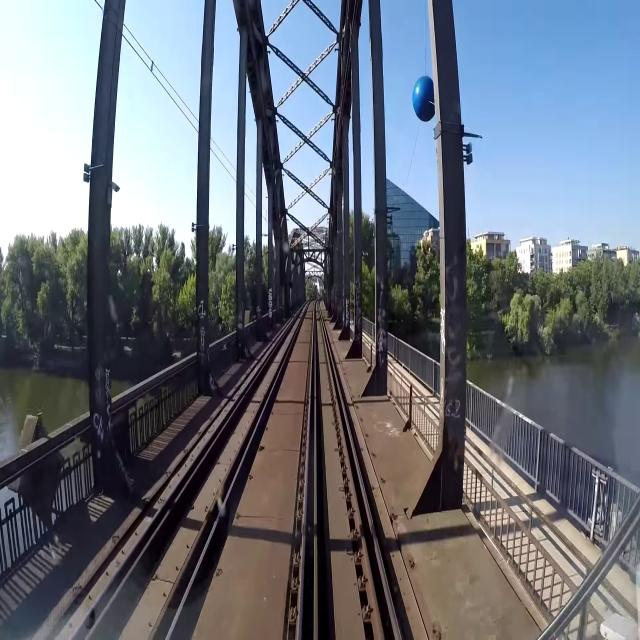rail-track: (94, 314, 300, 639), (156, 417, 257, 639), (315, 301, 376, 639), (74, 508, 165, 639)
